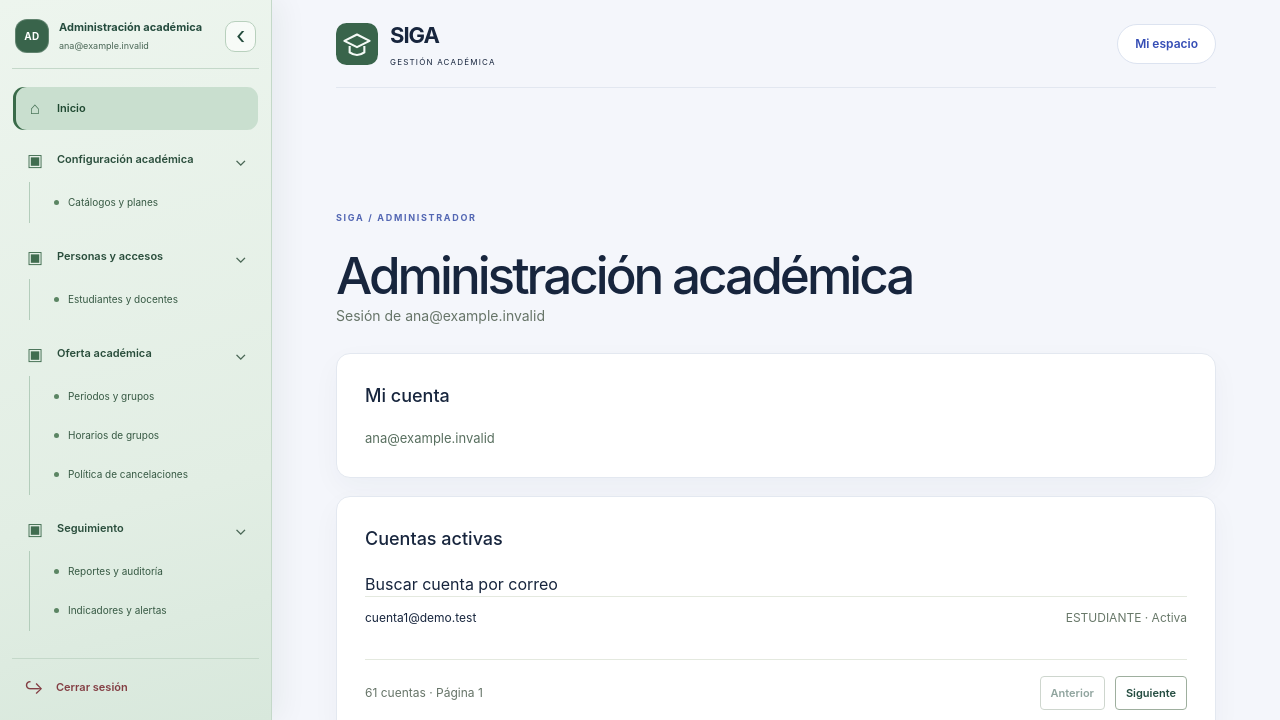
Test: permite buscar cuentas y avanzar mas alla de las primeras 50
Check: the text "cuenta1@demo.test" is shown, box [365,609,476,627]
Click the button "Siguiente": coordinates (1151, 693) [1115,676,1187,710]
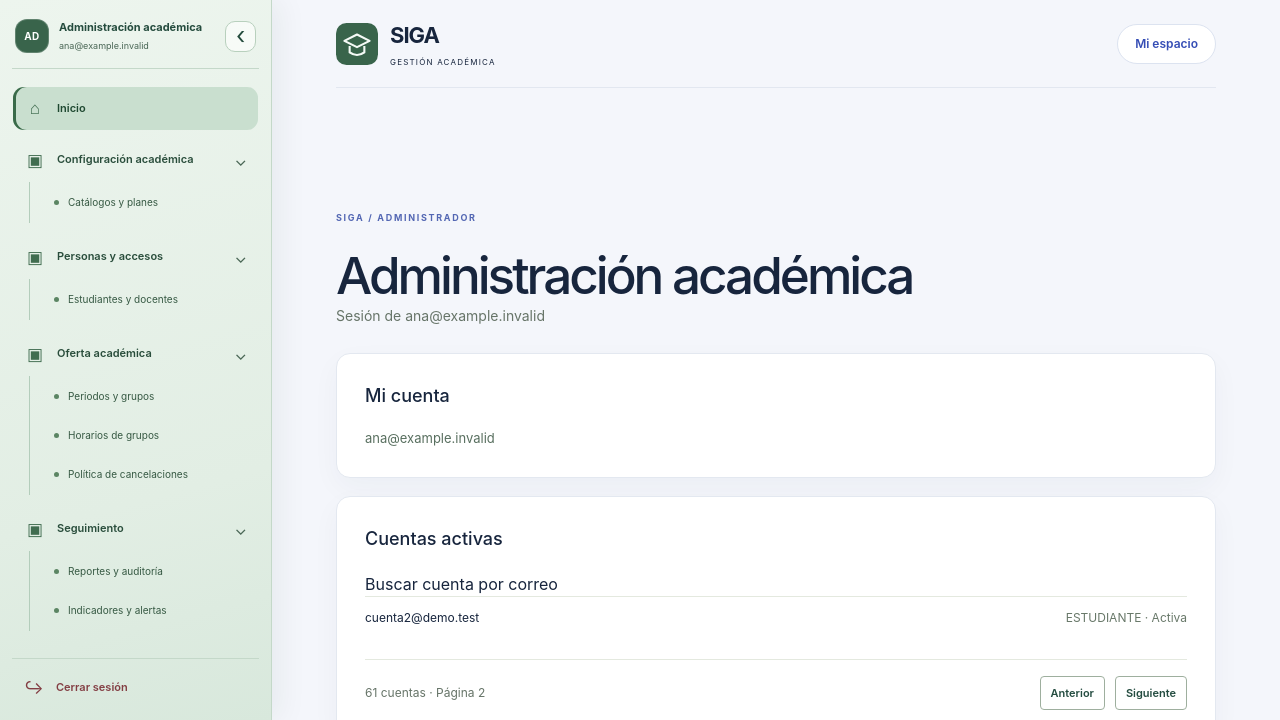
Check: the text "cuenta2@demo.test" is shown, box [365,609,479,627]
Click the button "Siguiente": coordinates (1151, 693) [1115,676,1187,710]
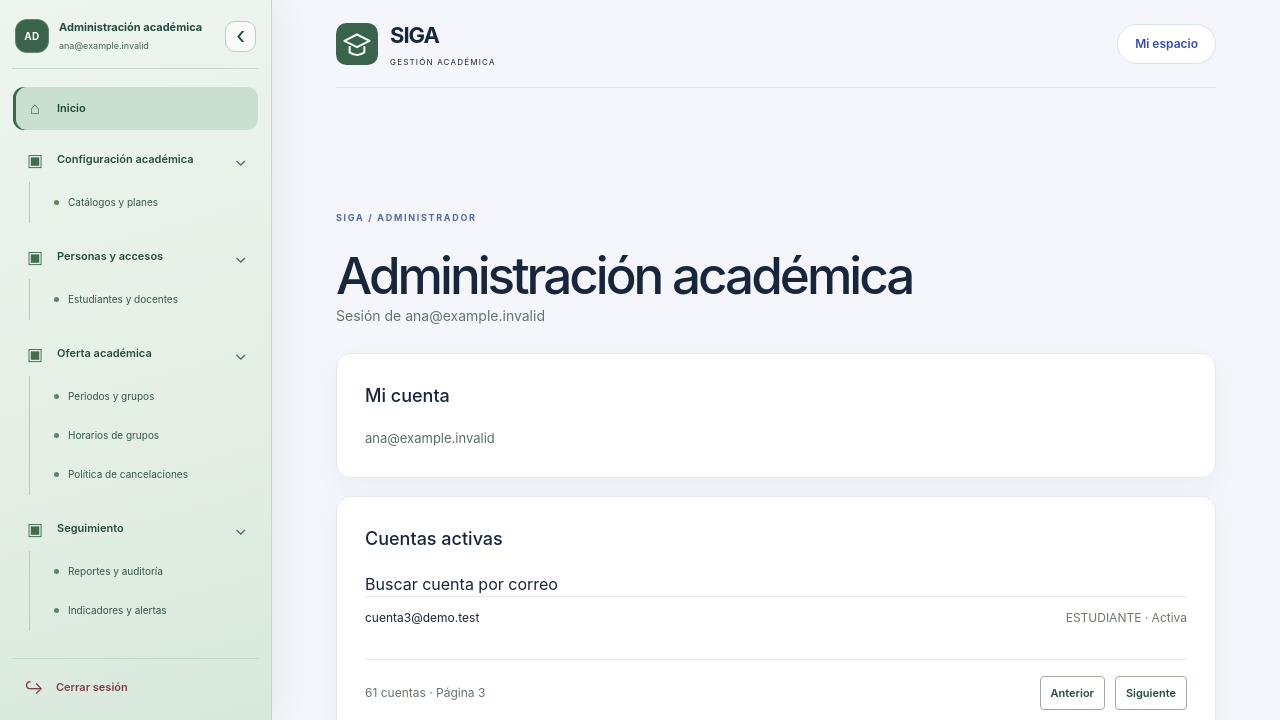
Check: the text "cuenta3@demo.test" is shown, box [365,609,479,627]
In the field labelled "Buscar cuenta por correo": coordinates (682, 584) [558,572,806,596], type "buscada"
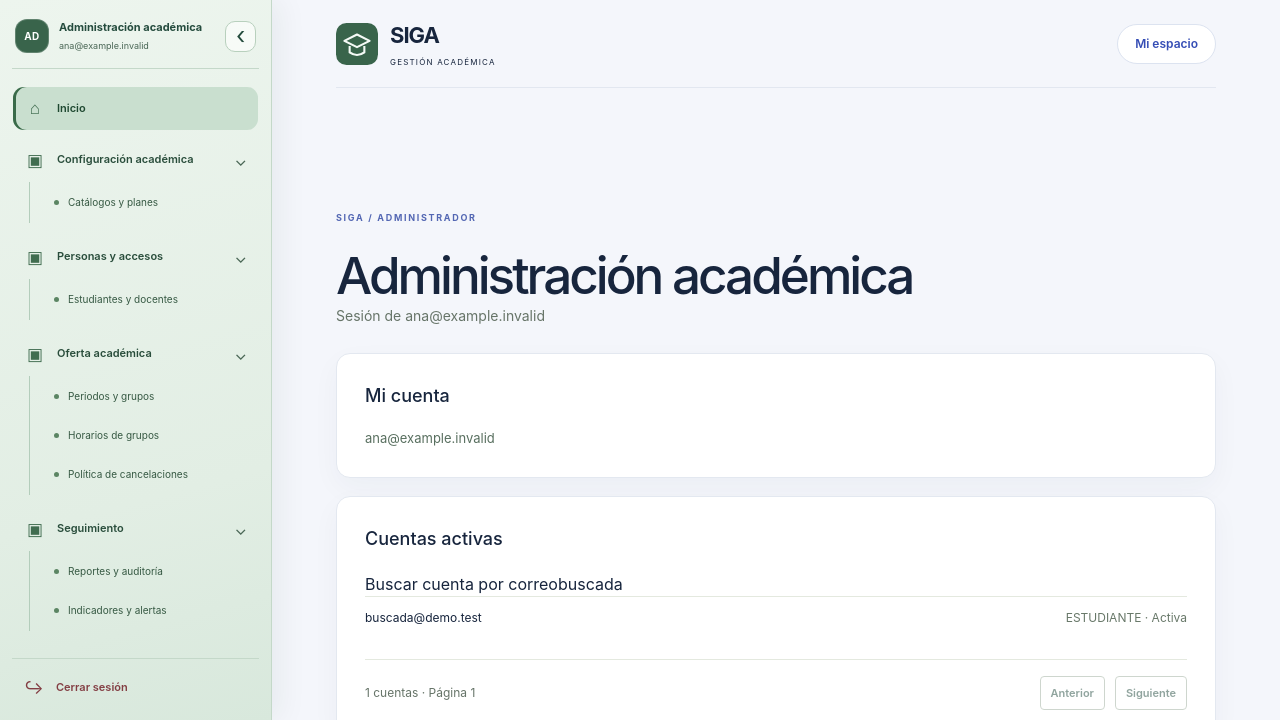
Check: the text "buscada@demo.test" is shown, box [365,609,482,627]
Check: the text "1 cuentas · Página 1" is shown, box [365,684,475,702]
